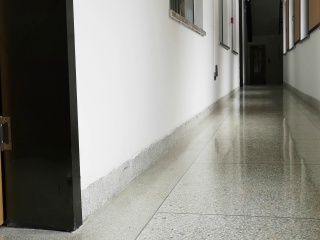room: (1, 2, 83, 227)
